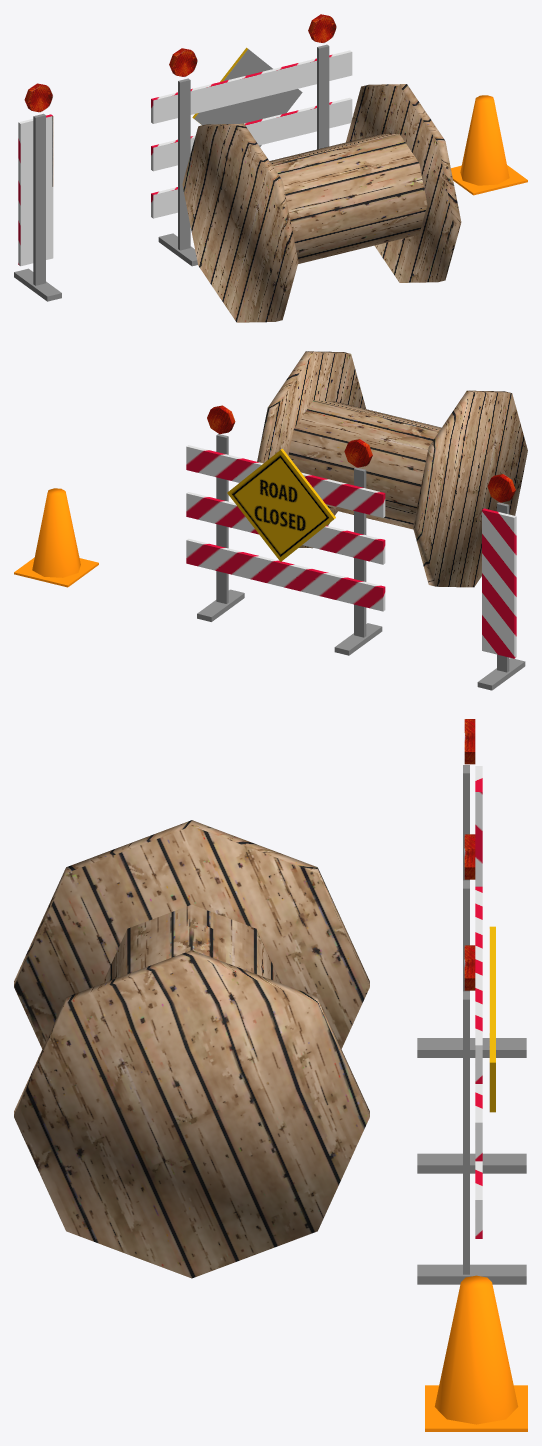
File: road_works.fbx
3 views of the same model, one above another, from view 1: azimuth 30°, elevation 25°; view 2: azimuth 150°, elevation 25°; view 3: azimuth 270°, elevation 25° (orthographic). The views are drawn at different scales.
Visible parts, largest first — view 1: Plane.000, Plane.001, Plane.002, Circle; view 2: Plane.000, Plane.001, Plane.002, Circle; view 3: Plane.000, Plane.001, Circle, Plane.002.
Boxes of the visible parts, box(x1,y1,x2,y2) form: Plane.000: box(182, 84, 461, 322); Plane.001: box(151, 14, 352, 266); Plane.002: box(14, 83, 61, 301); Circle: box(451, 95, 527, 195); Plane.000: box(257, 351, 527, 587); Plane.001: box(186, 405, 385, 655); Plane.002: box(477, 474, 525, 690); Circle: box(14, 488, 98, 587); Plane.000: box(14, 820, 369, 1278); Plane.001: box(417, 834, 526, 1284); Circle: box(425, 1275, 527, 1431); Plane.002: box(417, 719, 526, 1057).
Size of the model in its own units: 0.6575 by 0.2597 by 0.3636.
